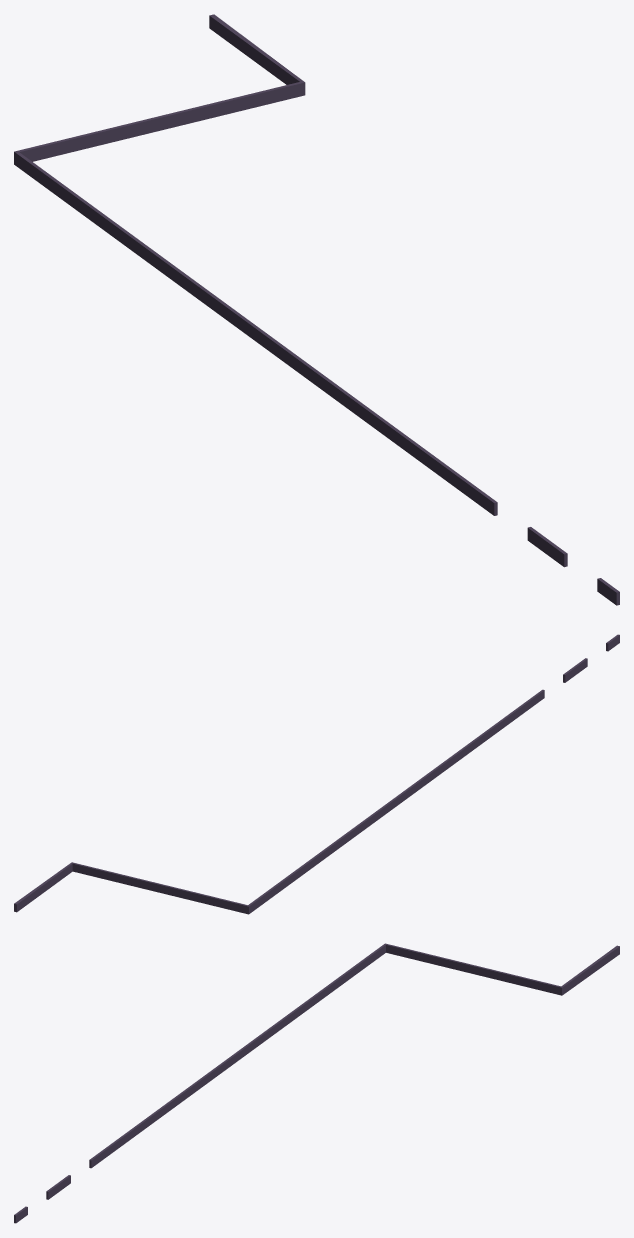
Rendered from SM_GameArea_Wall_05_Line.fbx.
The picture shows the model from 3 angles, top to bottom: view 1: azimuth 30°, elevation 25°; view 2: azimuth 150°, elevation 25°; view 3: azimuth 330°, elevation 25°; orthographic projection. The views are drawn at different scales.
Parts seen in each view (by area): view 1: SM_GameArea_Wall_05_Line; view 2: SM_GameArea_Wall_05_Line; view 3: SM_GameArea_Wall_05_Line.
Boxes of the visible parts, bbox=[...] form: SM_GameArea_Wall_05_Line: bbox=[14, 14, 619, 605]; SM_GameArea_Wall_05_Line: bbox=[14, 634, 619, 914]; SM_GameArea_Wall_05_Line: bbox=[14, 943, 619, 1223].
Size of the model in its own units: 30.5 by 1.29 by 126.
